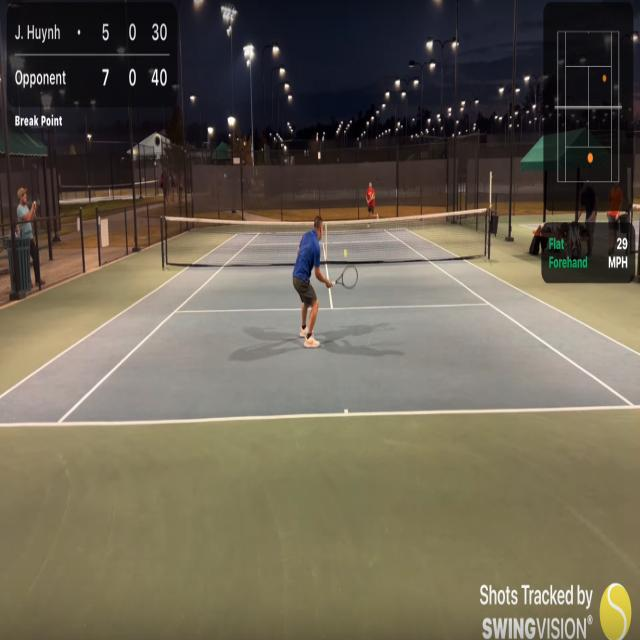ball: (343, 249, 348, 257)
